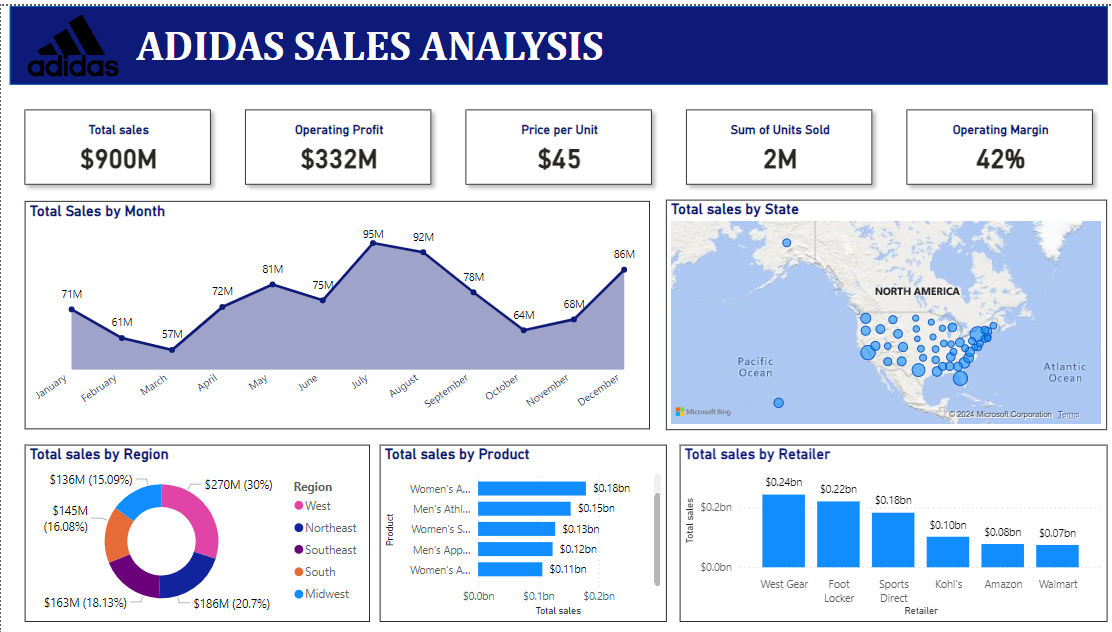

The page's visual inventory and layout, read from the dashboard file:
{"tool":"powerbi","page":{"name":"Page 1","canvas":[1280,720],"ordinal":0},"visuals":[{"type":"shape","box":[24.3,0,1255.7,90],"z":0},{"type":"textbox","box":[113.9,11,614.8,81],"z":1000},{"type":"image","box":[37.1,4.3,101.4,78.6],"z":2000},{"type":"cardVisual","fields":{"Data":["MEASURE.Total sales","Sum(Data Sales Adidas.Operating Profit)","Avg(Data Sales Adidas.Price per Unit)","Sum(Data Sales Adidas.Units Sold)","Avg(Data Sales Adidas.Operating Margin)"]},"box":[9.6,101.5,1255.6,120],"z":3000},{"type":"areaChart","title":" Total Sales by Month","fields":{"Category":["Data Sales Adidas.Invoice Date.Variation.Date Hierarchy.Month"],"Y":["Sum(Data Sales Adidas.Total Sales)"]},"box":[26.7,222.2,714.4,261.1],"z":4000},{"type":"shapeMap","fields":{"Category":["Data Sales Adidas.State"],"Value":["MEASURE.Total sales"]},"box":[760.6,221.3,503.8,262.9],"z":5000},{"type":"donutChart","fields":{"Y":["MEASURE.Total sales"],"Category":["Data Sales Adidas.Region"]},"box":[26.7,501.1,394.4,202.2],"z":6000},{"type":"barChart","fields":{"Y":["MEASURE.Total sales"],"Category":["Data Sales Adidas.Product"]},"box":[430,501.4,372.9,201.4],"z":7000},{"type":"columnChart","fields":{"Category":["Data Sales Adidas.Retailer"],"Y":["MEASURE.Total sales"]},"box":[824.3,501.4,440,201.4],"z":8000},{"type":"slicer","fields":{"Values":["Data Sales Adidas.Region"]},"box":[715.7,7.1,242.9,75.7],"z":9000},{"type":"slicer","fields":{"Values":["Data Sales Adidas.Invoice Date"]},"box":[980,7.1,235.7,75.7],"z":10000}]}

Visuals, with their boxes in screenshot pixels (x1, y1, x2, y2), scaled from the page's 1280x720 canvas onto the 1112x632 screenshot:
shape: {"left": 21, "top": 0, "right": 1111, "bottom": 79}
textbox: {"left": 99, "top": 10, "right": 633, "bottom": 81}
image: {"left": 32, "top": 4, "right": 120, "bottom": 73}
cardVisual - MEASURE.Total sales x Sum(Data Sales Adidas.Operating Profit): {"left": 8, "top": 89, "right": 1099, "bottom": 194}
" Total Sales by Month" areaChart: {"left": 23, "top": 195, "right": 644, "bottom": 424}
shapeMap - Data Sales Adidas.State x MEASURE.Total sales: {"left": 661, "top": 194, "right": 1098, "bottom": 425}
donutChart - MEASURE.Total sales x Data Sales Adidas.Region: {"left": 23, "top": 440, "right": 366, "bottom": 617}
barChart - MEASURE.Total sales x Data Sales Adidas.Product: {"left": 374, "top": 440, "right": 698, "bottom": 617}
columnChart - Data Sales Adidas.Retailer x MEASURE.Total sales: {"left": 716, "top": 440, "right": 1098, "bottom": 617}
slicer - Data Sales Adidas.Region: {"left": 622, "top": 6, "right": 833, "bottom": 73}
slicer - Data Sales Adidas.Invoice Date: {"left": 851, "top": 6, "right": 1056, "bottom": 73}
